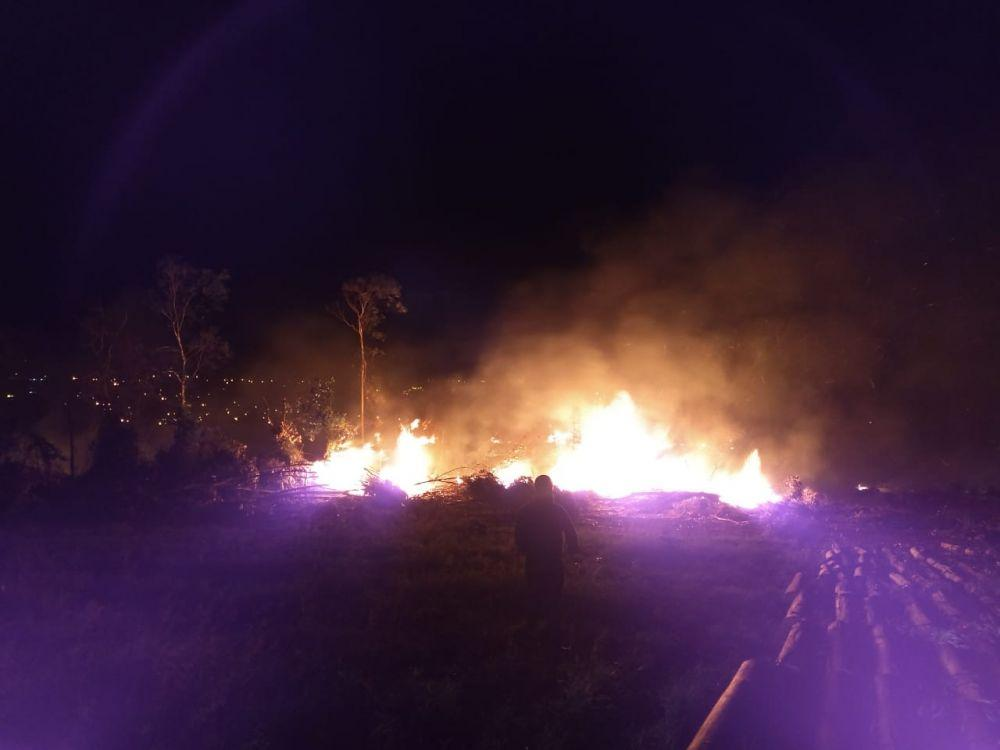fire: (570, 414, 772, 498), (324, 426, 440, 502)
smoke: (520, 252, 814, 386)
